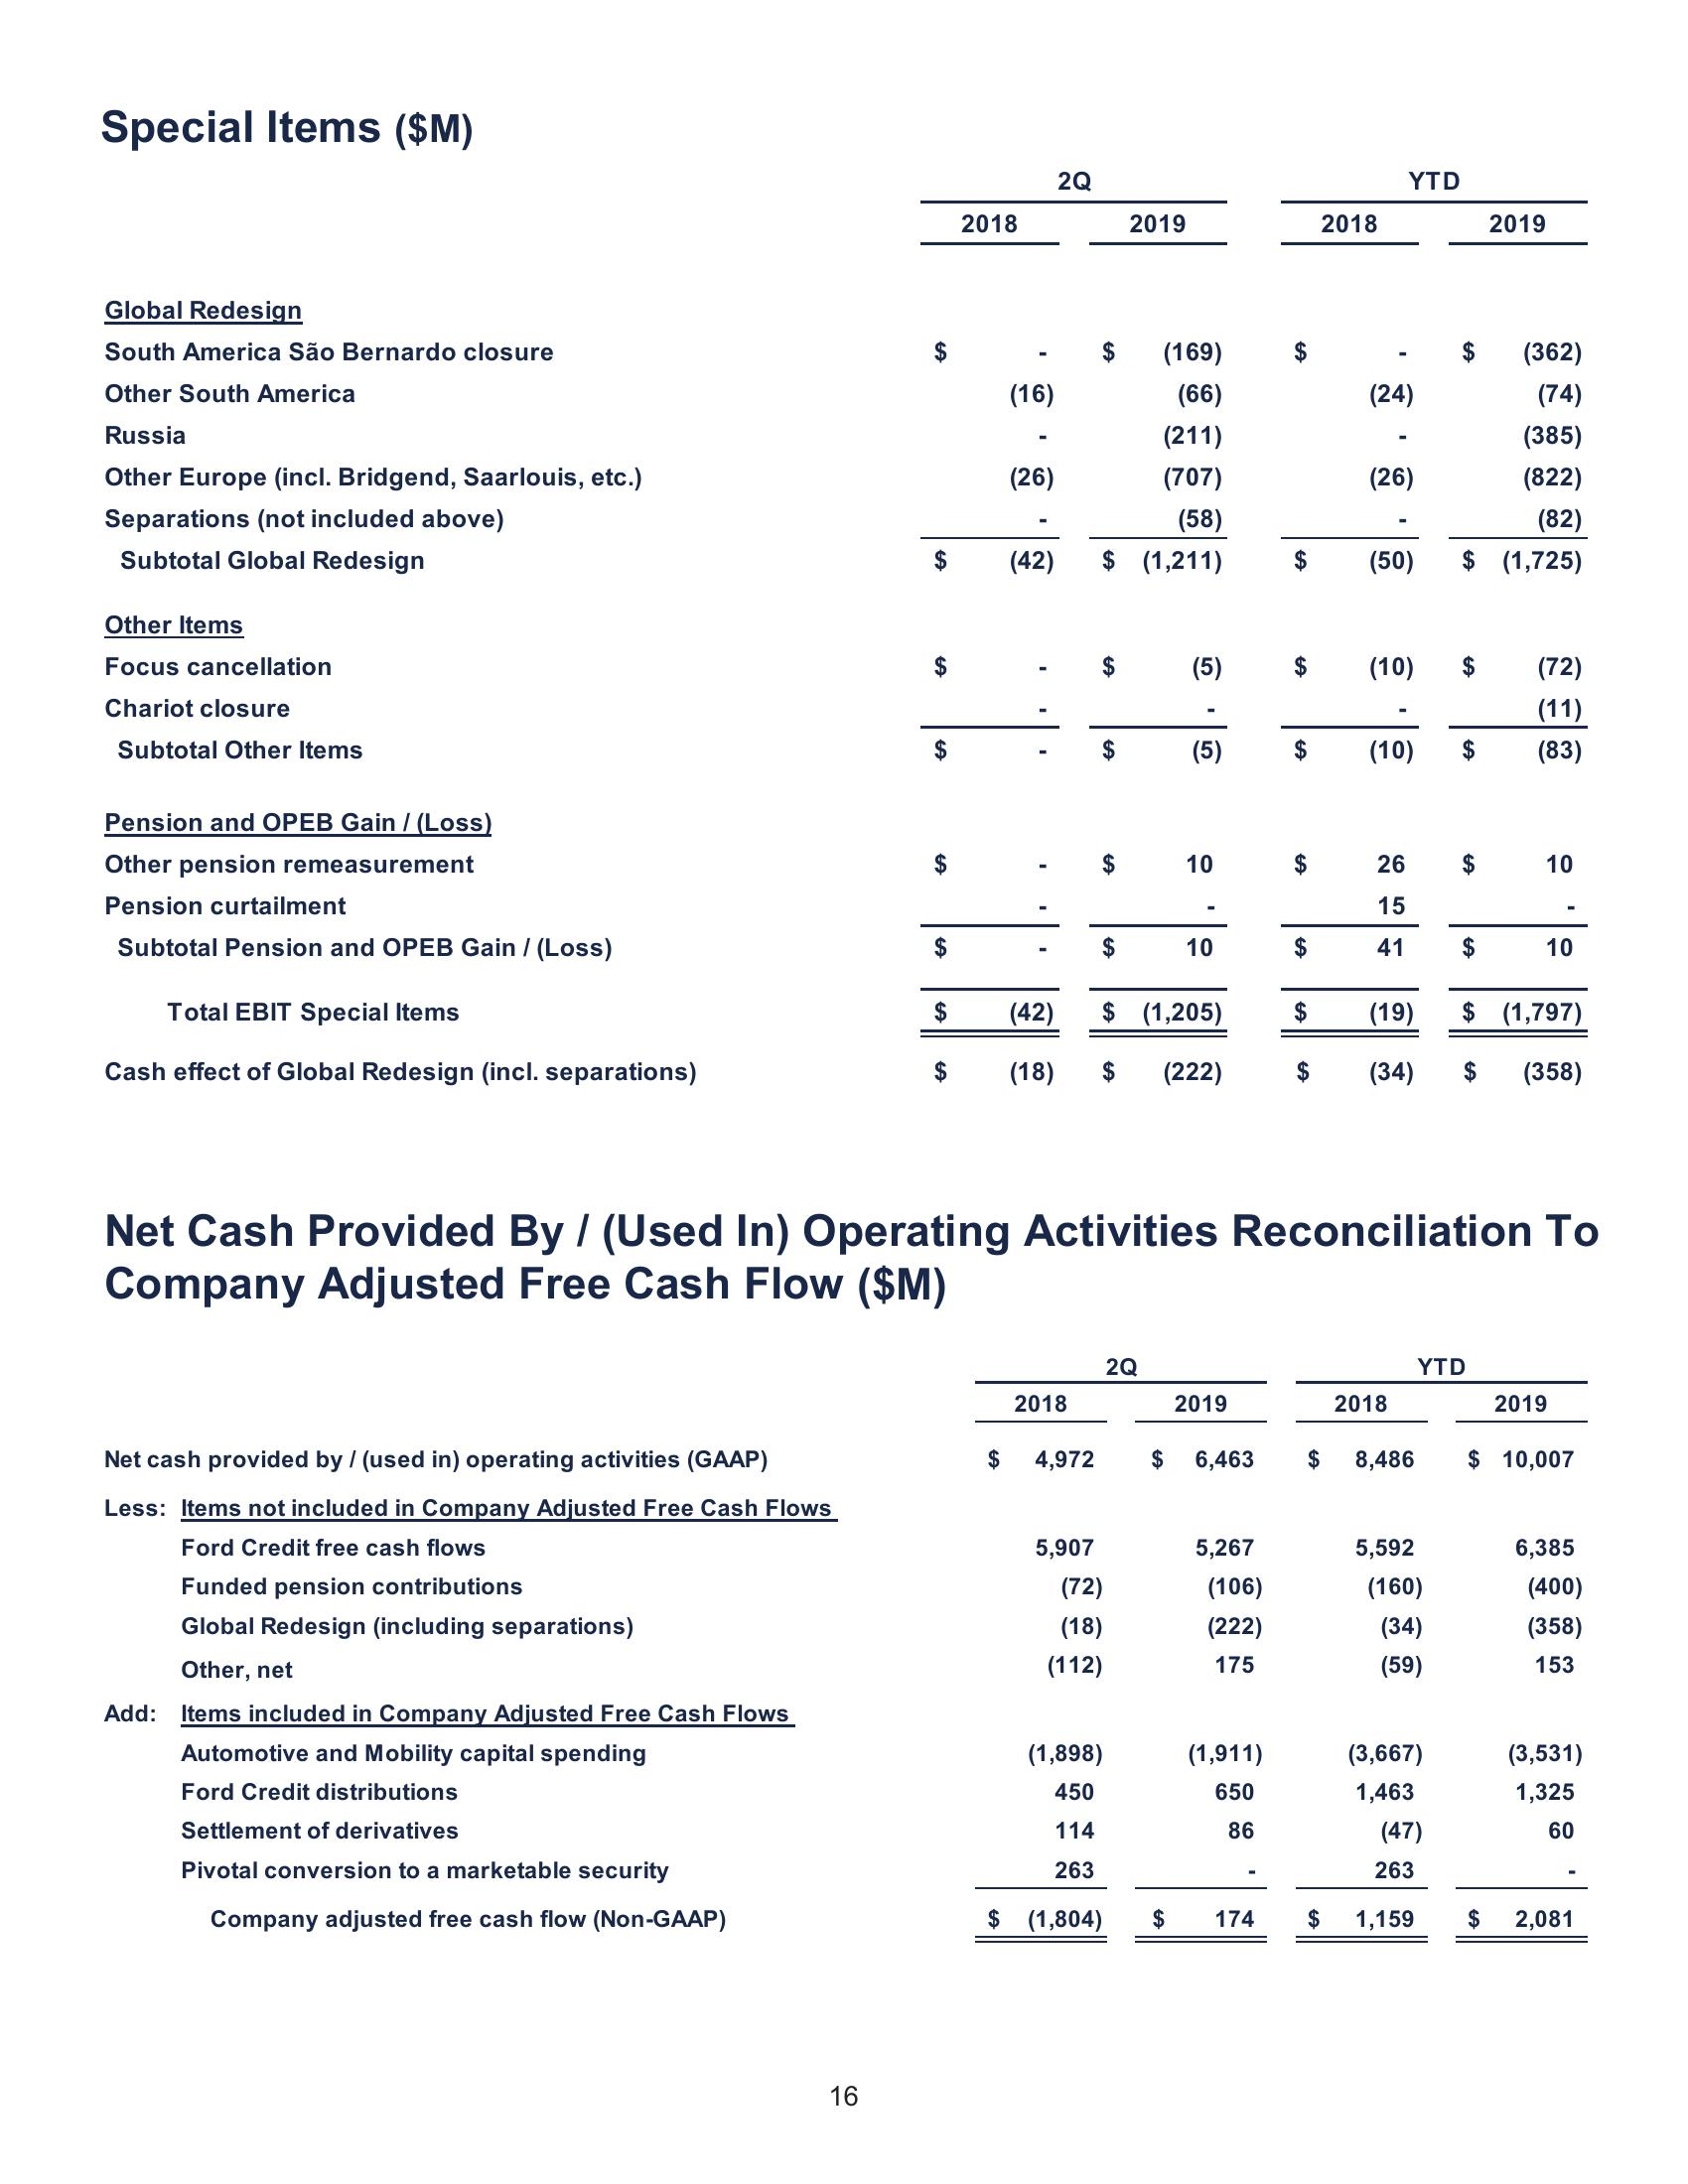table: (94, 161, 1596, 1090), (92, 1351, 1599, 1954)
